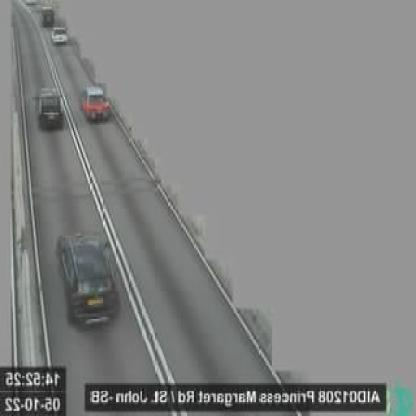Car: (56, 234, 122, 329), (35, 88, 66, 130), (80, 85, 112, 120), (53, 26, 69, 43)
